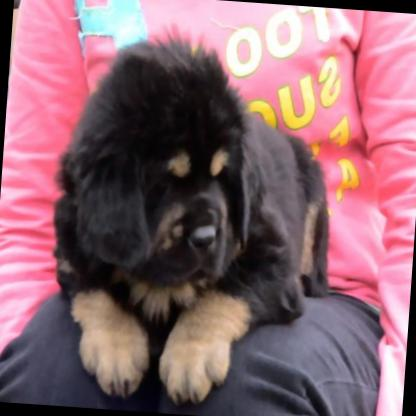Tibetan_mastiff: (38, 19, 346, 410)
